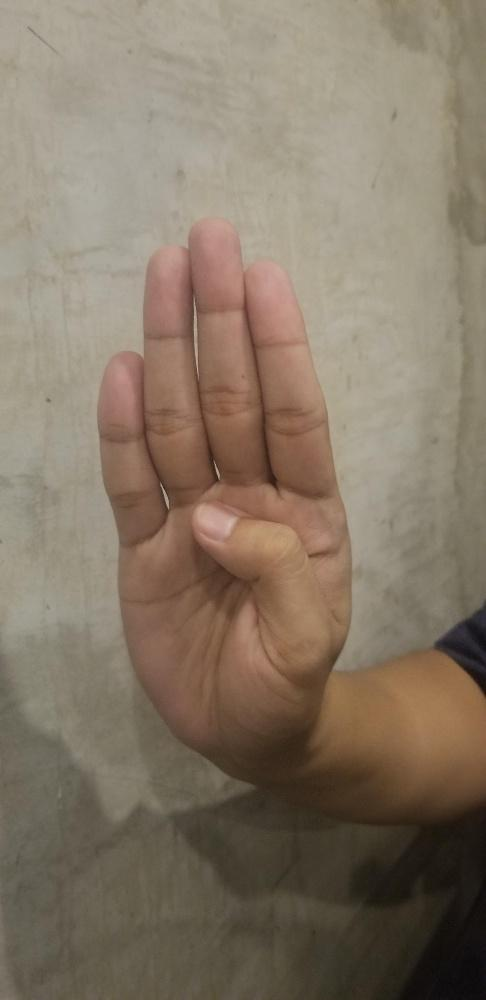b: (96, 215, 356, 755)
